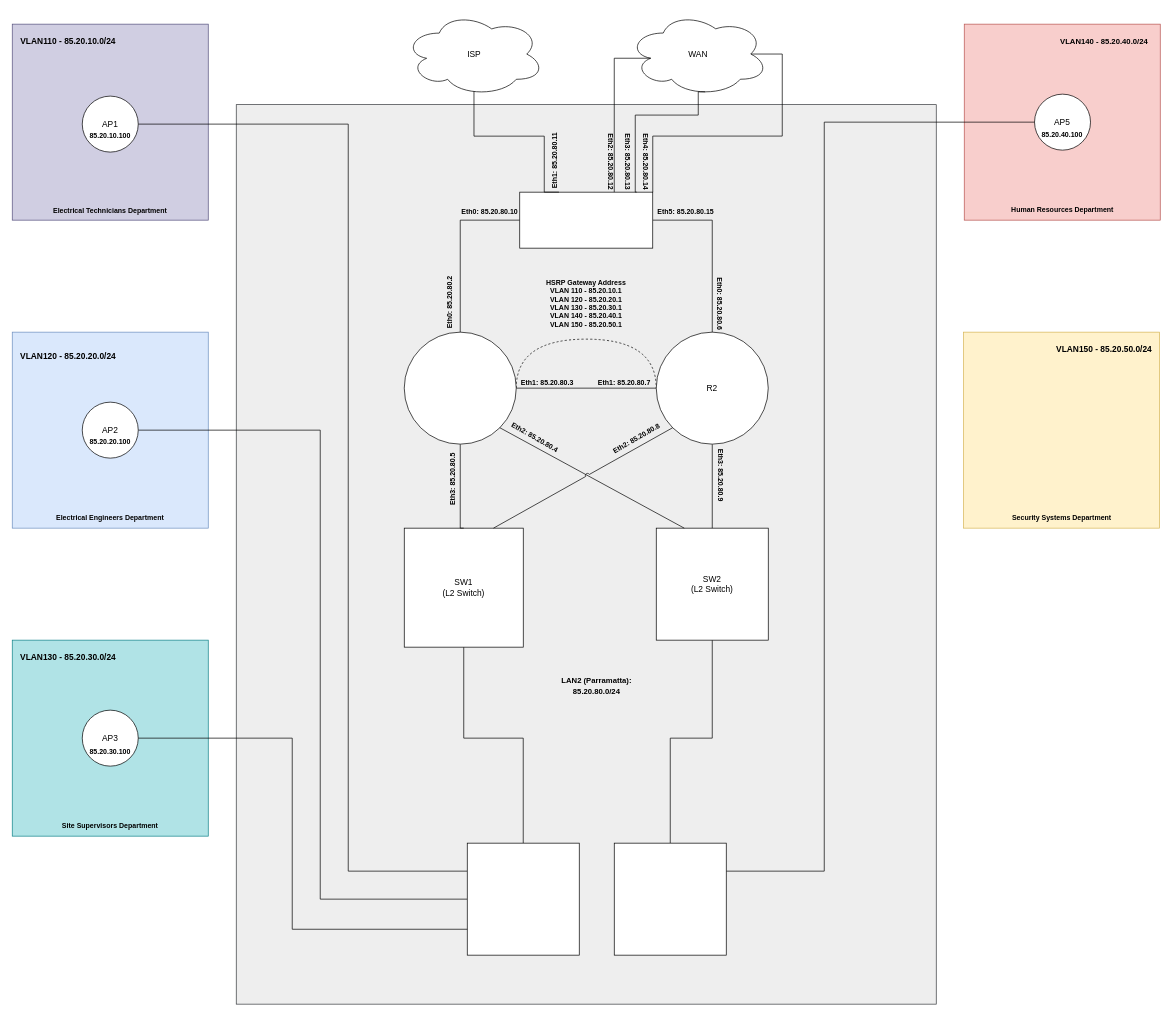
The diagram is 1173 pixels wide and 1017 high, and some of its shapes have lost their labels. Each missing label, with the centre of its shape:
"FRW1" goes at (x=586, y=219).
"R1" goes at (x=460, y=387).
"SW3 (L2 PoE Switch)" goes at (x=523, y=898).
"SW4 (L2 PoE Switch)" goes at (x=670, y=898).
